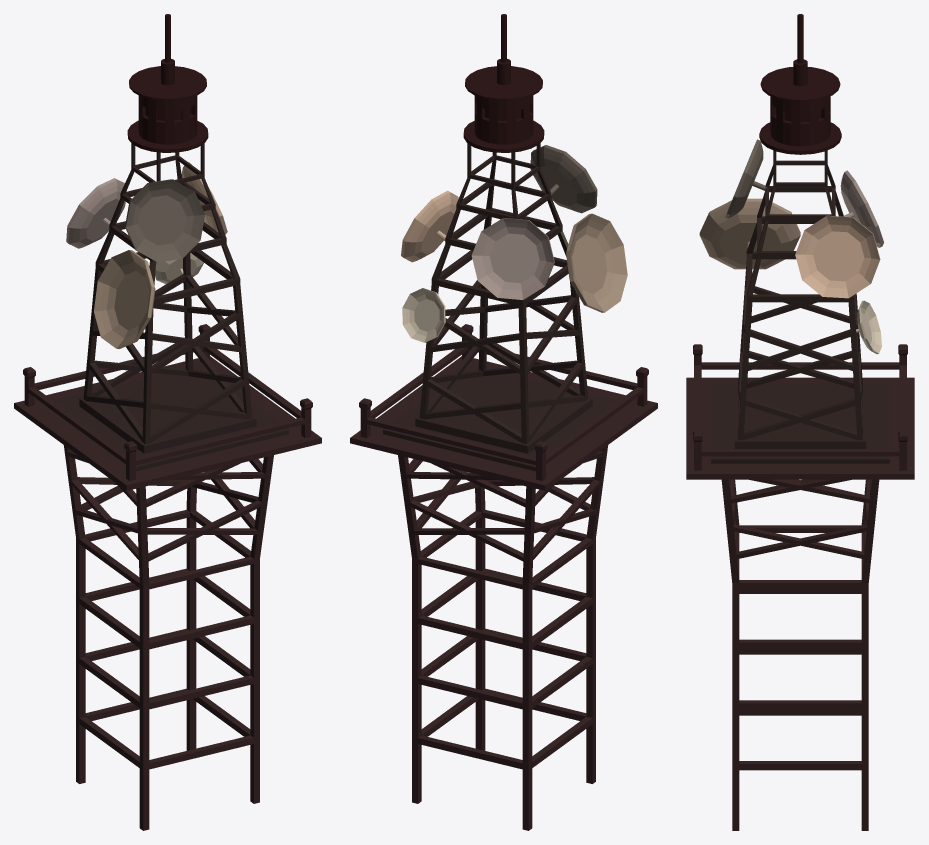
The model's file is torreRadio.fbx.
3 renders of one model, left to right at view 1: azimuth 30°, elevation 25°; view 2: azimuth 150°, elevation 25°; view 3: azimuth 270°, elevation 25°, orthographic.
Visible parts, largest first — view 1: Cube, Cube.001, Cylinder, Cylinder.002, Cylinder.001, Cylinder.005, Cylinder.004, Cylinder.003; view 2: Cube, Cube.001, Cylinder, Cylinder.005, Cylinder.001, Cylinder.002, Cylinder.003, Cylinder.004; view 3: Cube, Cube.001, Cylinder, Cylinder.003, Cylinder.001, Cylinder.005, Cylinder.002, Cylinder.004.
Boxes of the visible parts, x1=… form: Cube: x1=14, y1=324, x2=321, y2=830; Cube.001: x1=48, y1=143, x2=288, y2=471; Cylinder: x1=127, y1=14, x2=208, y2=152; Cylinder.002: x1=125, y1=179, x2=204, y2=262; Cylinder.001: x1=94, y1=250, x2=155, y2=348; Cylinder.005: x1=66, y1=178, x2=125, y2=248; Cylinder.004: x1=155, y1=253, x2=203, y2=284; Cylinder.003: x1=181, y1=162, x2=227, y2=234; Cube: x1=350, y1=324, x2=657, y2=830; Cube.001: x1=383, y1=143, x2=623, y2=471; Cylinder: x1=463, y1=14, x2=544, y2=152; Cylinder.005: x1=471, y1=218, x2=554, y2=299; Cylinder.001: x1=566, y1=213, x2=627, y2=312; Cylinder.002: x1=530, y1=145, x2=597, y2=213; Cylinder.003: x1=401, y1=190, x2=458, y2=262; Cylinder.004: x1=402, y1=288, x2=445, y2=342; Cube: x1=686, y1=344, x2=914, y2=830; Cube.001: x1=711, y1=150, x2=889, y2=463; Cylinder: x1=759, y1=14, x2=841, y2=154; Cylinder.003: x1=795, y1=215, x2=880, y2=298; Cylinder.001: x1=699, y1=198, x2=800, y2=269; Cylinder.005: x1=840, y1=170, x2=883, y2=247; Cylinder.002: x1=725, y1=139, x2=767, y2=218; Cylinder.004: x1=856, y1=300, x2=881, y2=354.
Size of the model in its own units: 200 by 761 by 200.
